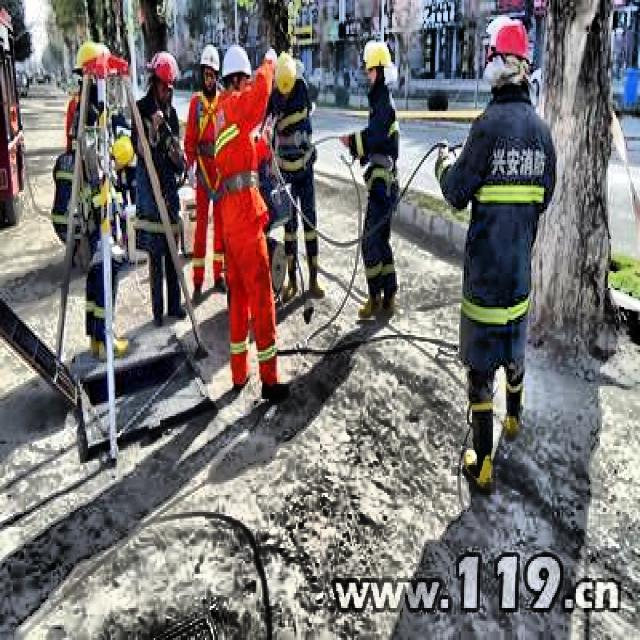helmet: (478, 17, 533, 88), (146, 47, 180, 102), (221, 45, 254, 96), (358, 42, 392, 88), (195, 40, 224, 91)
